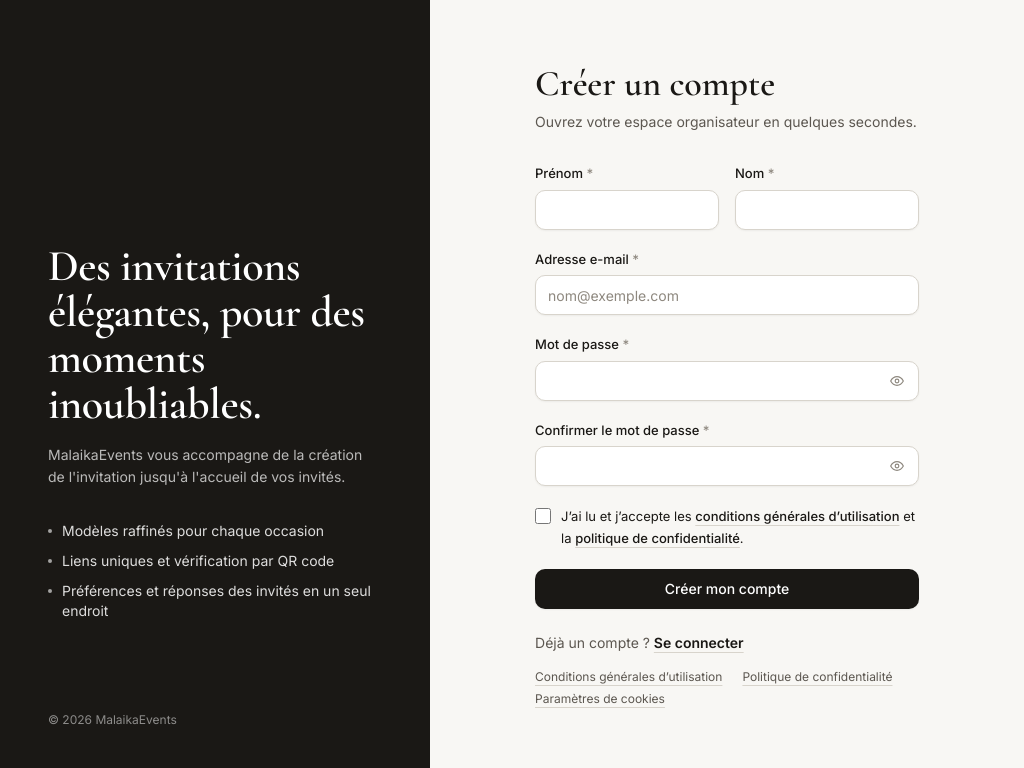
it: SignupPage › rejects mismatched password confirmation locally
Expected: the heading "Créer un compte" is shown, [535, 62, 775, 105]
Type "Grâce" into the field labelled "Prénom *" at x=627, y=210, box [535, 190, 719, 230]
Type "Mukendi" into the field labelled "Nom *" at x=827, y=210, box [735, 190, 919, 230]
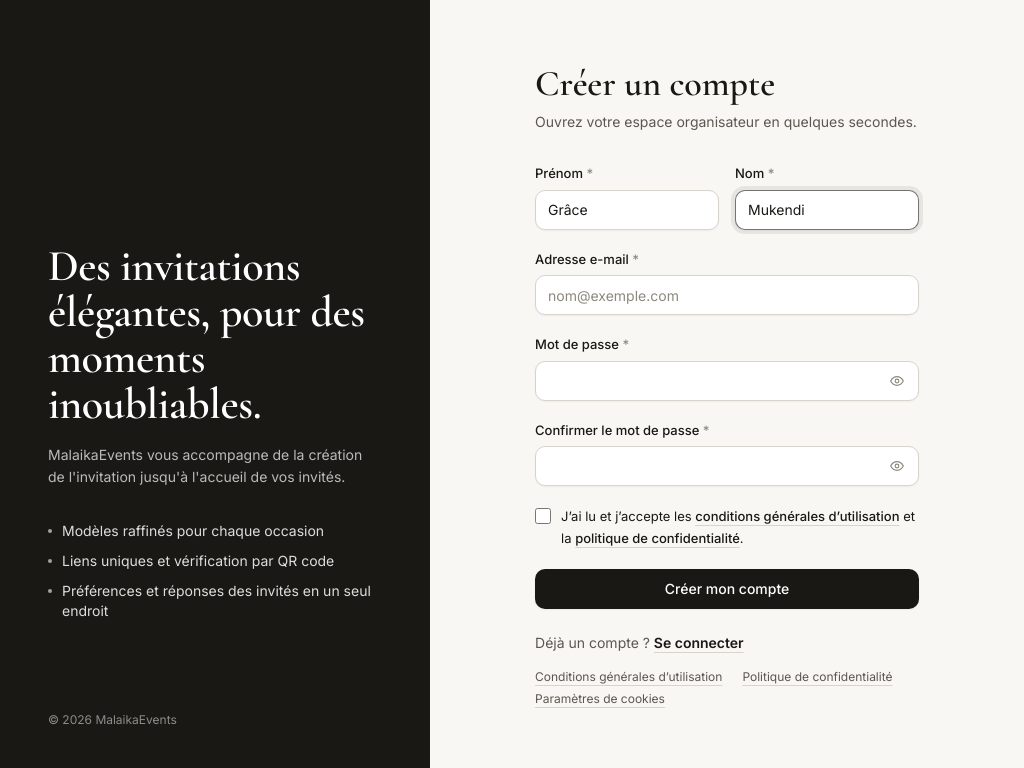
Type "nouvelle.organisatrice@nickevents.cd" into the field labelled "Adresse e-mail *" at x=727, y=295, box [535, 275, 919, 315]
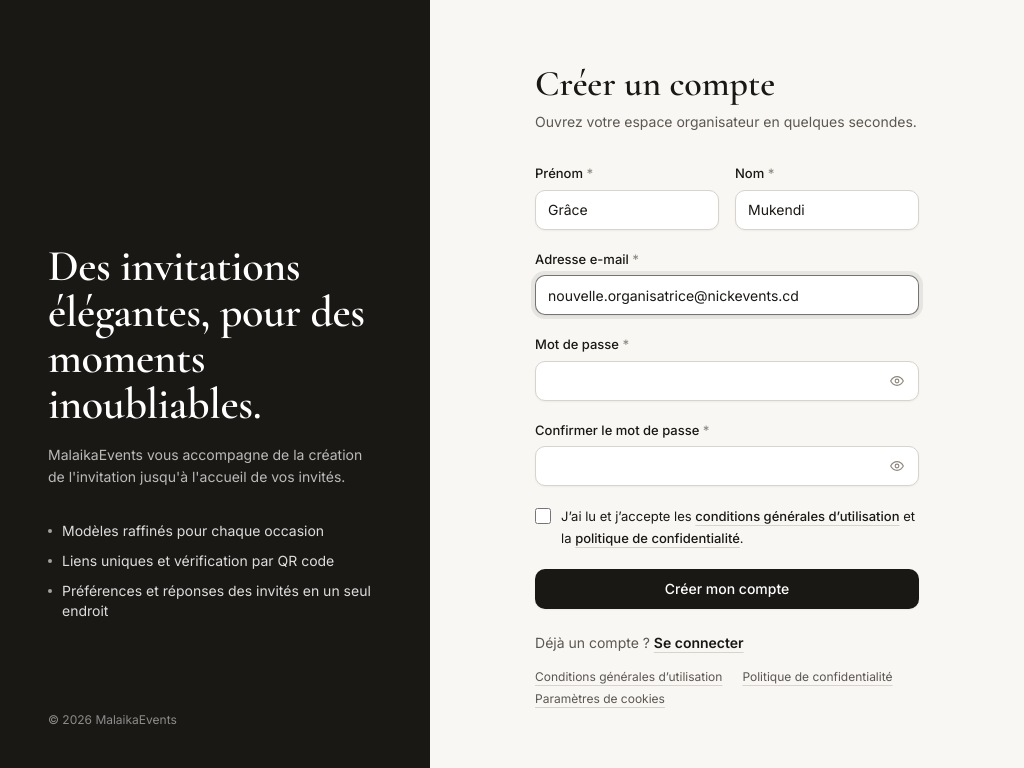
Type "mot-de-passe-secret" into the password field labelled "Mot de passe *" at x=727, y=381, box [535, 361, 919, 401]
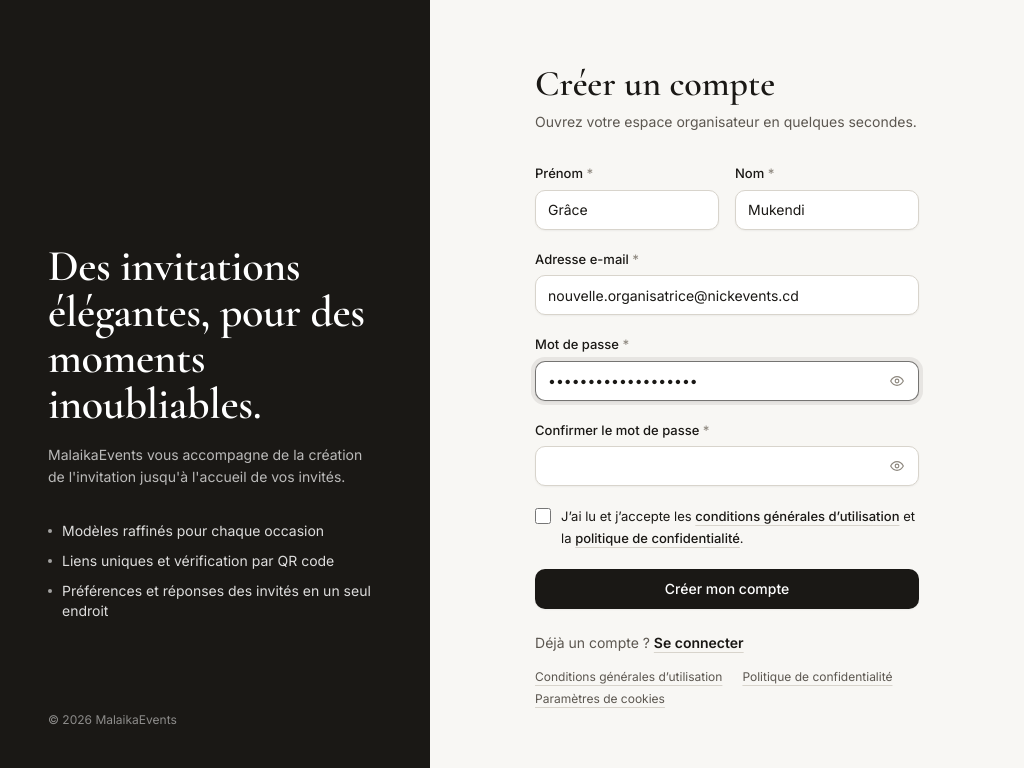
Type "autre-mot-de-passe" into the password field labelled "Confirmer le mot de passe *" at x=727, y=466, box [535, 446, 919, 486]
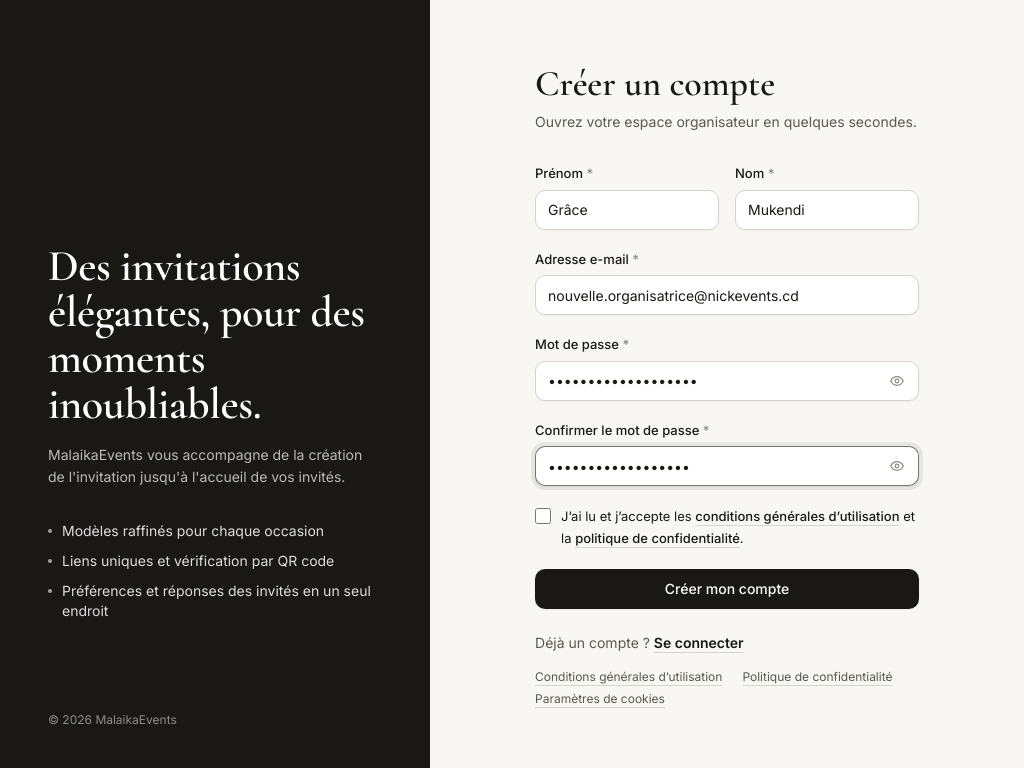
Click the checkbox labelled "conditions générales" at x=543, y=516, box [535, 508, 551, 524]
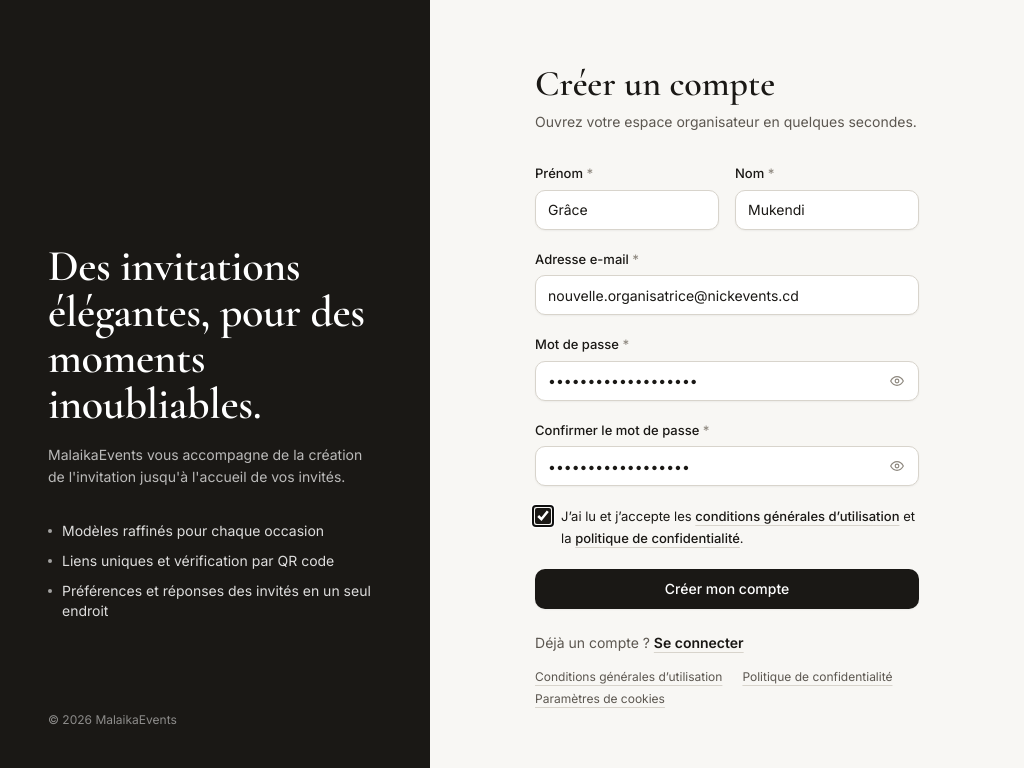
Click the button "Créer mon compte" at x=727, y=589, box [535, 569, 919, 609]
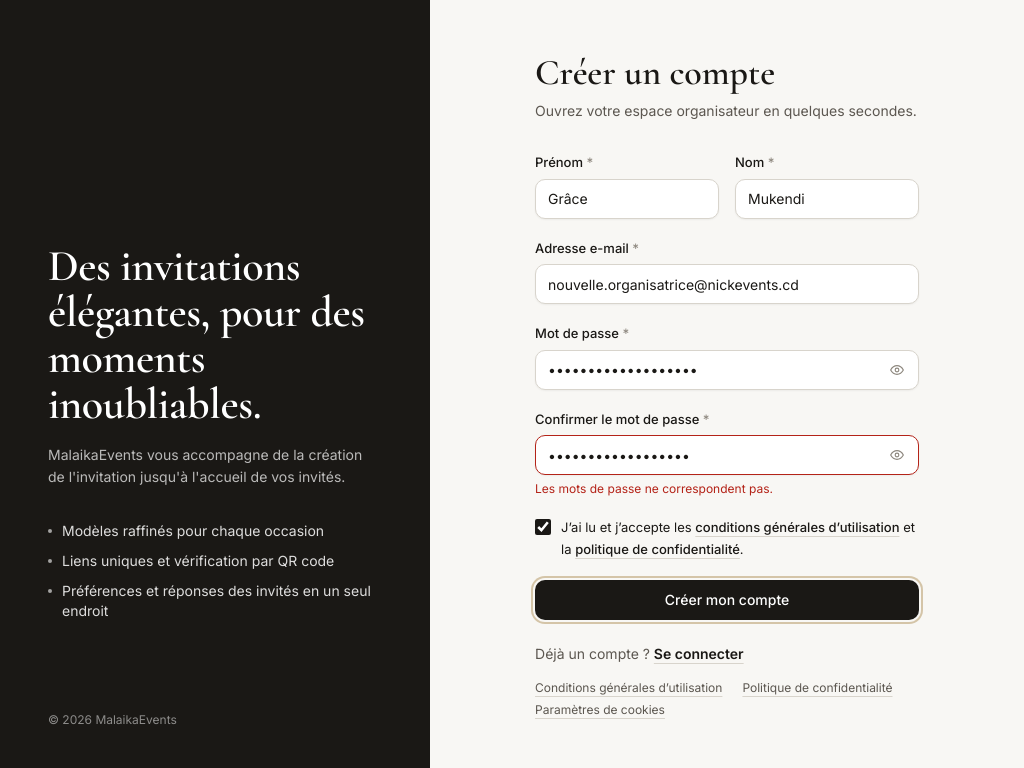
Result: the text "Les mots de passe ne correspondent pas." is shown at [535, 481, 773, 496]
